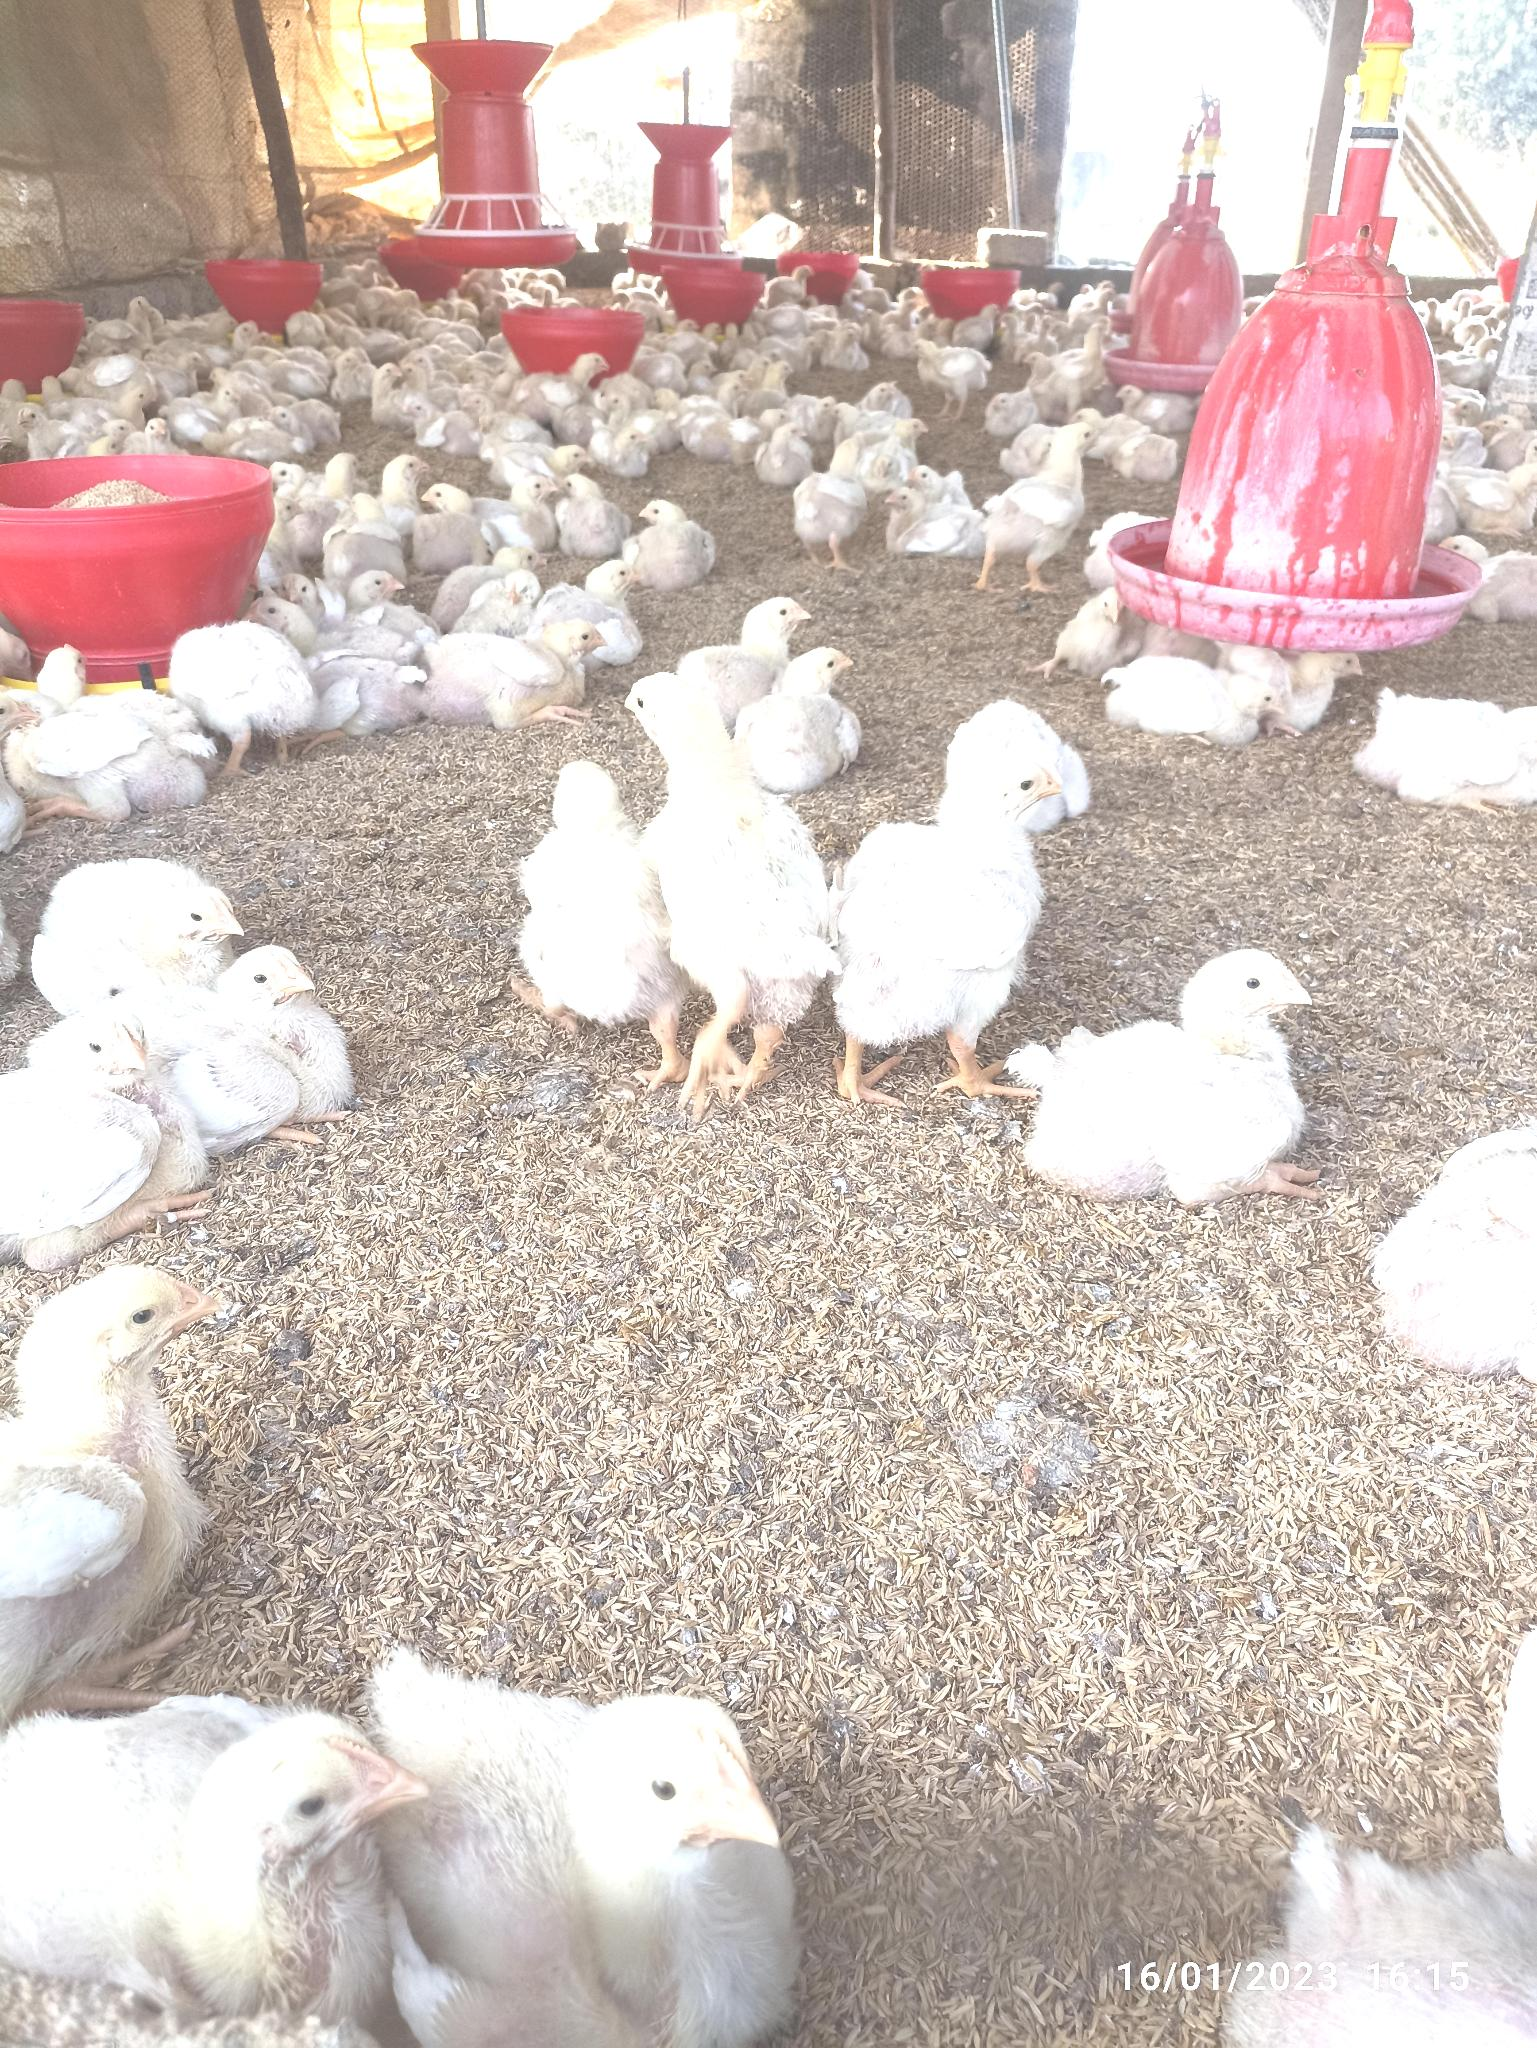Pollos: (387, 1657, 812, 2038), (2, 1691, 417, 2035), (2, 1256, 237, 1691), (1025, 946, 1321, 1212), (835, 741, 1059, 1043), (620, 671, 785, 1017), (10, 1018, 207, 1243), (1384, 1109, 1537, 1393), (509, 741, 665, 1009), (158, 942, 354, 1109), (10, 859, 245, 991), (5, 681, 205, 817), (433, 618, 602, 720), (990, 418, 1108, 562), (1355, 700, 1537, 791), (1108, 660, 1287, 741), (759, 650, 865, 779), (701, 591, 825, 700), (236, 591, 415, 665), (625, 499, 728, 579), (512, 349, 614, 424), (801, 441, 873, 545), (568, 558, 646, 654), (346, 453, 433, 536), (276, 455, 355, 542), (888, 486, 978, 557), (907, 332, 996, 395), (415, 483, 488, 554), (170, 382, 245, 441), (559, 470, 618, 539), (496, 473, 554, 542), (1057, 589, 1120, 652), (407, 400, 486, 450), (1024, 345, 1098, 399), (586, 424, 659, 478), (712, 408, 786, 460), (1116, 387, 1204, 421), (481, 568, 542, 615)
